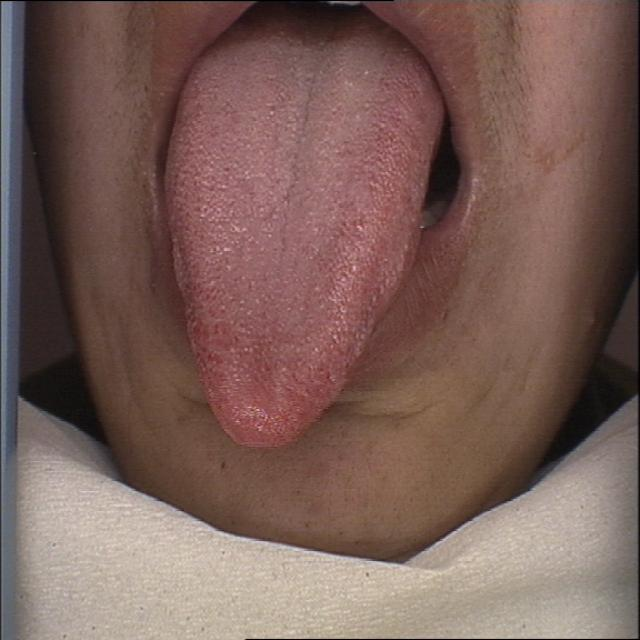tongue: (161, 12, 452, 454)
